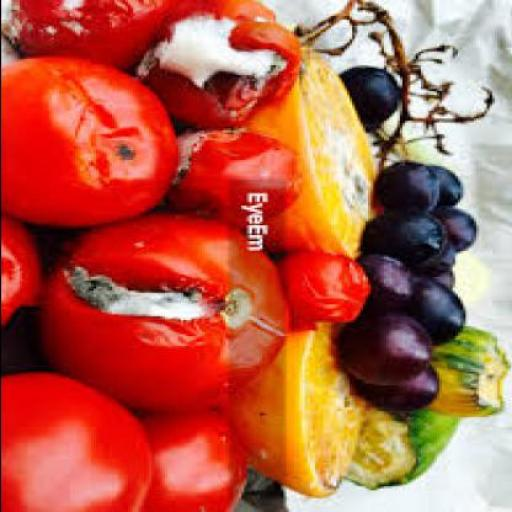biodegradable: (42, 212, 293, 408), (298, 0, 496, 166), (3, 55, 182, 228), (238, 42, 380, 256), (226, 320, 364, 495), (3, 371, 156, 510), (140, 10, 303, 127), (6, 1, 280, 67), (172, 124, 301, 226), (127, 409, 251, 510), (346, 403, 466, 488), (424, 324, 510, 418), (274, 249, 372, 328), (337, 308, 438, 382), (2, 209, 40, 330), (364, 210, 448, 259), (350, 364, 440, 409), (337, 64, 399, 128), (412, 275, 467, 342), (374, 160, 444, 212), (364, 253, 420, 308), (433, 206, 478, 251), (430, 164, 465, 208), (415, 241, 459, 275), (430, 264, 456, 290)
